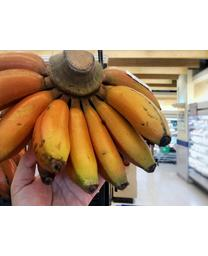banana: (0, 50, 171, 195)
